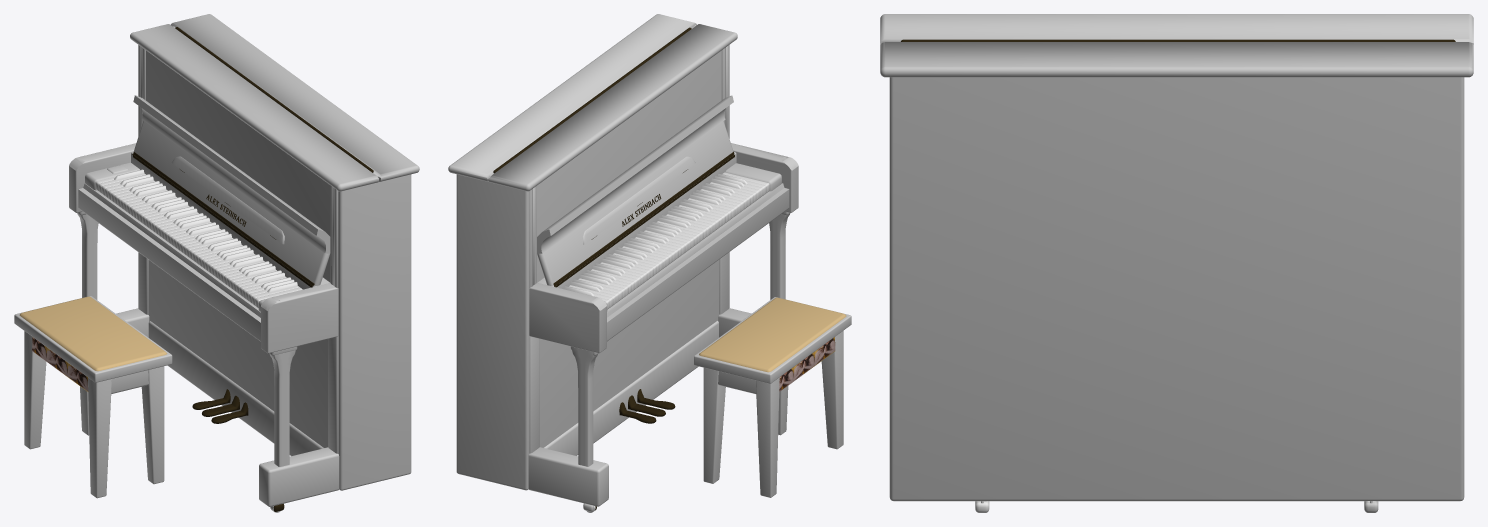
File: piano2.fbx
3 views of the same model, side by side, from view 1: azimuth 30°, elevation 25°; view 2: azimuth 150°, elevation 25°; view 3: azimuth 270°, elevation 25° (orthographic). The views are drawn at different scales.
Visible parts, largest first — view 1: Body, Keyboard Cover, Keyboard Frame, Seat, Keyboard Support01, Seat Leg01, Seat Leg02, Seat Frame, Seat Leg, piano Base Support, Keyboard Support, Keyboard Cover01 (+7 smaller); view 2: Body, Keyboard Cover, Keyboard Frame, Seat, Keyboard Support, Seat Leg, Seat Leg03, Seat Frame, Seat Leg01, piano Base Support01, Keyboard Support01, Keyboard Cover01 (+7 smaller); view 3: Body, Top Hinge.
Boxes of the visible parts, x1,y1,x2,y2 form: Body: (116, 14, 419, 506); Keyboard Cover: (133, 95, 330, 285); Keyboard Frame: (78, 183, 260, 341); Seat: (19, 296, 167, 371); Keyboard Support01: (261, 283, 338, 353); Seat Leg01: (88, 377, 111, 498); Seat Leg02: (141, 366, 164, 484); Seat Frame: (14, 296, 172, 382); Seat Leg: (24, 331, 46, 449); piano Base Support: (270, 350, 295, 466); Keyboard Support: (69, 143, 136, 212); Keyboard Cover01: (171, 156, 284, 244); Body: (448, 14, 751, 506); Keyboard Cover: (537, 95, 733, 285); Keyboard Frame: (607, 183, 789, 341); Seat: (699, 297, 846, 372); Keyboard Support: (529, 282, 606, 353); Seat Leg: (756, 377, 779, 497); Seat Leg03: (703, 367, 725, 483); Seat Frame: (694, 297, 851, 383); Seat Leg01: (821, 330, 843, 449); piano Base Support01: (572, 346, 597, 466); Keyboard Support01: (731, 143, 798, 212); Keyboard Cover01: (582, 156, 695, 244); Body: (880, 14, 1473, 501); Top Hinge: (901, 39, 1455, 41).
Bounding box in the file's own units: 43.66 × 51.43 × 61.02.
